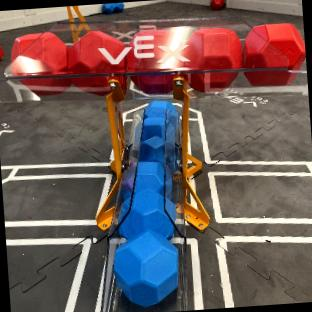V5_BLUE: (114, 231, 178, 305), (118, 188, 174, 235), (138, 100, 177, 166)
V5_RED: (244, 22, 305, 84), (182, 26, 241, 90), (10, 31, 67, 74), (67, 30, 125, 72), (189, 70, 236, 90), (246, 69, 294, 84)
